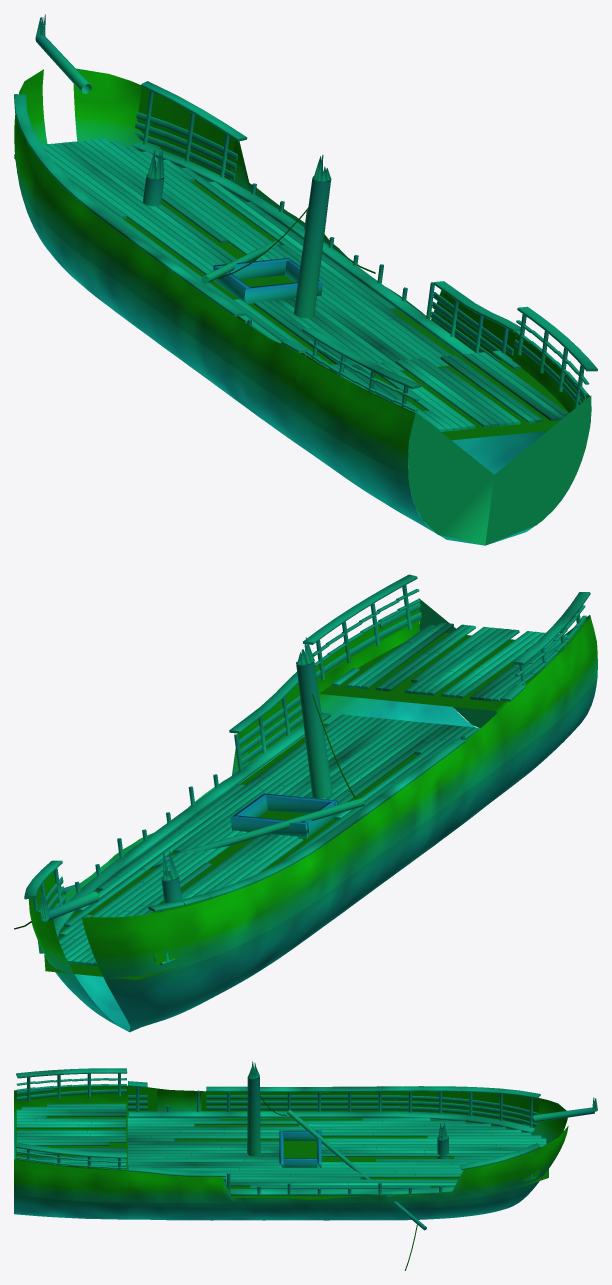
Rendered from derelict_hulk_a.glb.
The picture shows the model from 3 angles, top to bottom: view 1: azimuth 30°, elevation 25°; view 2: azimuth 150°, elevation 25°; view 3: azimuth 270°, elevation 25°; orthographic projection. The views are drawn at different scales.
Visible parts, largest first — view 1: derelict_hulk_a; view 2: derelict_hulk_a; view 3: derelict_hulk_a.
Boxes of the visible parts, x1=… form: derelict_hulk_a: x1=14, y1=14, x2=597, y2=545; derelict_hulk_a: x1=14, y1=574, x2=597, y2=1032; derelict_hulk_a: x1=14, y1=1061, x2=597, y2=1270.
Size of what is drawn, in the model's own units: 8.66 by 6.85 by 23.13.
